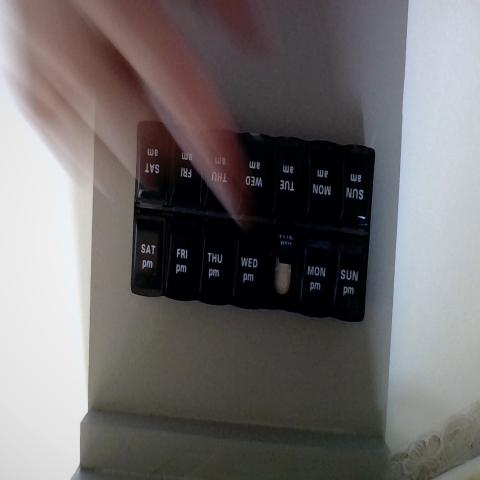FRI-pm: (168, 215, 202, 302)
MON-am: (300, 140, 334, 221)
MON-pm: (302, 226, 336, 308)
Open: (273, 257, 299, 312)
Pill: (277, 262, 292, 297)
SAT-pm: (132, 213, 168, 297)
SUN-am: (338, 139, 371, 226)
SUN-pm: (336, 228, 367, 316)
THU-pm: (203, 224, 239, 302)
TUE-am: (269, 140, 300, 220)
WED-am: (237, 136, 270, 219), (238, 229, 269, 309)
